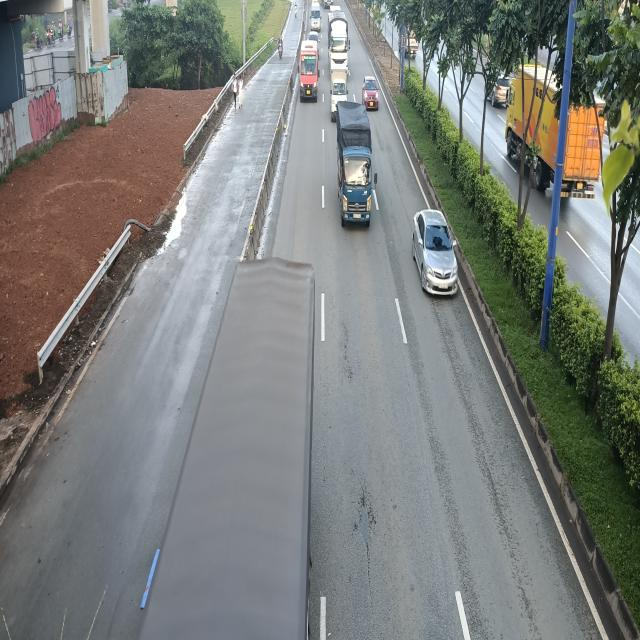car: (411, 207, 458, 293), (362, 77, 379, 112)
truck: (147, 257, 314, 640), (336, 100, 378, 227), (327, 6, 349, 68), (330, 64, 350, 119)
van: (299, 40, 321, 104), (311, 0, 321, 33)
